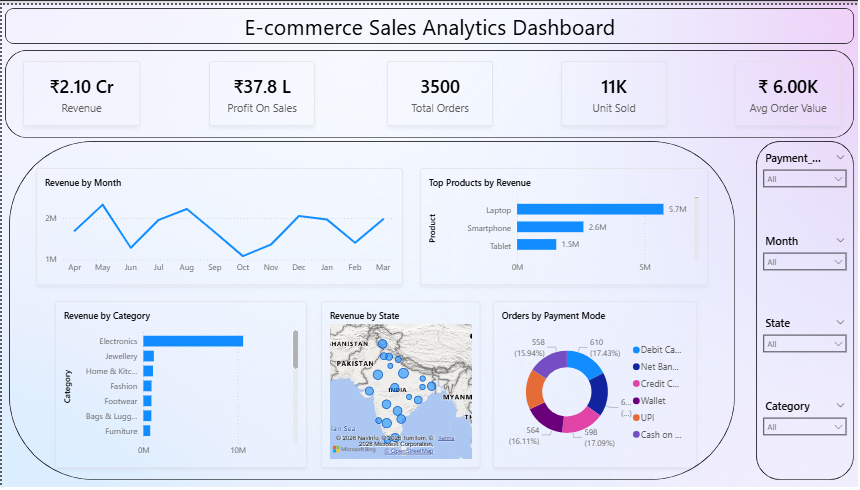

Layout of this report page (visuals, bound fields, positions):
{"tool":"powerbi","page":{"name":"Page 1","canvas":[1280,720],"ordinal":0},"visuals":[{"type":"card","fields":{"Values":["ecommerce_db sales_data.Revenue"]},"box":[31.4,83.7,174.8,97.1],"z":0},{"type":"card","title":"Profit","fields":{"Values":["ecommerce_db sales_data.profit l"]},"box":[309.2,83.7,158.3,97.1],"z":1000},{"type":"card","fields":{"Values":["ecommerce_db sales_data.Total Orders"]},"box":[575.1,83.7,158.3,97.1],"z":2000},{"type":"card","fields":{"Values":["ecommerce_db sales_data.Total Quantity"]},"box":[835,83.7,158.3,97.1],"z":3000},{"type":"card","fields":{"Values":["ecommerce_db sales_data.Avg Order Value"]},"box":[1094.9,83.7,158.3,97.1],"z":4000},{"type":"lineChart","title":"Revenue by Month","fields":{"Category":["ecommerce_db sales_data.Month"],"Y":["ecommerce_db sales_data.Total Sales"]},"box":[50.8,243.5,548.2,174.8],"z":5000},{"type":"donutChart","title":"Orders by Payment Mode","fields":{"Category":["ecommerce_db sales_data.Payment_Mode"],"Y":["ecommerce_db sales_data.Total Orders"]},"box":[733.4,442.2,304.7,249.5],"z":6000},{"type":"barChart","title":"Revenue by Category","fields":{"Category":["ecommerce_db sales_data.Category"],"Y":["ecommerce_db sales_data.Total Sales"]},"box":[79.2,442.2,376.4,249.5],"z":7000},{"type":"clusteredBarChart","title":"Top Products by Revenue","fields":{"Category":["ecommerce_db sales_data.Product"],"Y":["ecommerce_db sales_data.Total Sales"]},"box":[624.4,243.5,430.2,174.8],"z":8000},{"type":"map","title":"Revenue by State","fields":{"Category":["ecommerce_db sales_data.State"],"Size":["ecommerce_db sales_data.Total Sales"]},"box":[475.8,442.2,237.5,249.5],"z":9000},{"type":"slicer","fields":{"Values":["ecommerce_db sales_data.Month"]},"box":[1132.3,341.6,134.4,103.1],"z":10000},{"type":"slicer","fields":{"Values":["ecommerce_db sales_data.State"]},"box":[1132.3,465.1,134.4,103.1],"z":11000},{"type":"slicer","fields":{"Values":["ecommerce_db sales_data.Category"]},"box":[1132.3,588.5,134.4,103.1],"z":12000},{"type":"slicer","fields":{"Values":["ecommerce_db sales_data.Payment_Mode"]},"box":[1132.3,218.1,134.4,103.1],"z":13000},{"type":"shape","box":[4.5,67.2,1268.2,131.5],"z":14000},{"type":"shape","box":[4.5,4.5,1268.2,53.8],"z":15000},{"type":"textbox","box":[224.7,4.5,830.5,53.8],"z":16000},{"type":"shape","box":[1126.3,203.2,146.4,506.4],"z":17000},{"type":"shape","box":[10.5,203.2,1084.5,506.4],"z":18000}]}

Visuals, with their boxes in screenshot pixels (x1, y1, x2, y2), scaled from the page's 1280x720 canvas onto the 860x490 screenshot:
card - ecommerce_db sales_data.Revenue: (21, 57, 139, 123)
"Profit" card: (208, 57, 314, 123)
card - ecommerce_db sales_data.Total Orders: (386, 57, 493, 123)
card - ecommerce_db sales_data.Total Quantity: (561, 57, 667, 123)
card - ecommerce_db sales_data.Avg Order Value: (736, 57, 842, 123)
"Revenue by Month" lineChart: (34, 166, 402, 285)
"Orders by Payment Mode" donutChart: (493, 301, 697, 471)
"Revenue by Category" barChart: (53, 301, 306, 471)
"Top Products by Revenue" clusteredBarChart: (420, 166, 709, 285)
"Revenue by State" map: (320, 301, 479, 471)
slicer - ecommerce_db sales_data.Month: (761, 232, 851, 303)
slicer - ecommerce_db sales_data.State: (761, 317, 851, 387)
slicer - ecommerce_db sales_data.Category: (761, 401, 851, 471)
slicer - ecommerce_db sales_data.Payment_Mode: (761, 148, 851, 219)
shape: (3, 46, 855, 135)
shape: (3, 3, 855, 40)
textbox: (151, 3, 709, 40)
shape: (757, 138, 855, 483)
shape: (7, 138, 736, 483)
